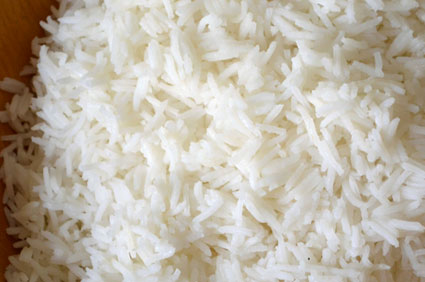plain rice: (50, 5, 410, 282)
